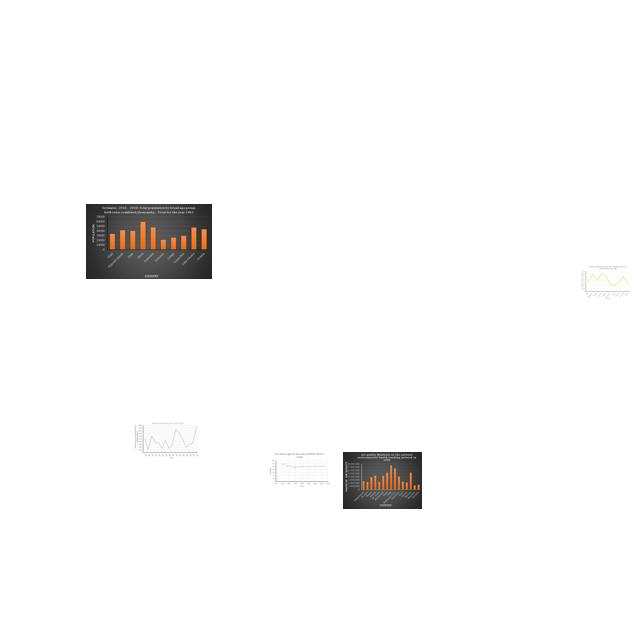Graph: (86, 204, 212, 279), (343, 452, 422, 509), (134, 422, 199, 459), (268, 452, 331, 488), (580, 265, 631, 301)
